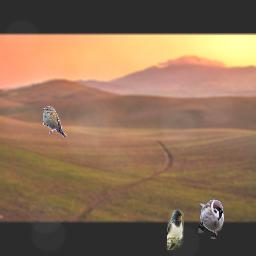Sparrow: (198, 199, 224, 239), (43, 106, 67, 137)
Swallow: (167, 210, 184, 250)
